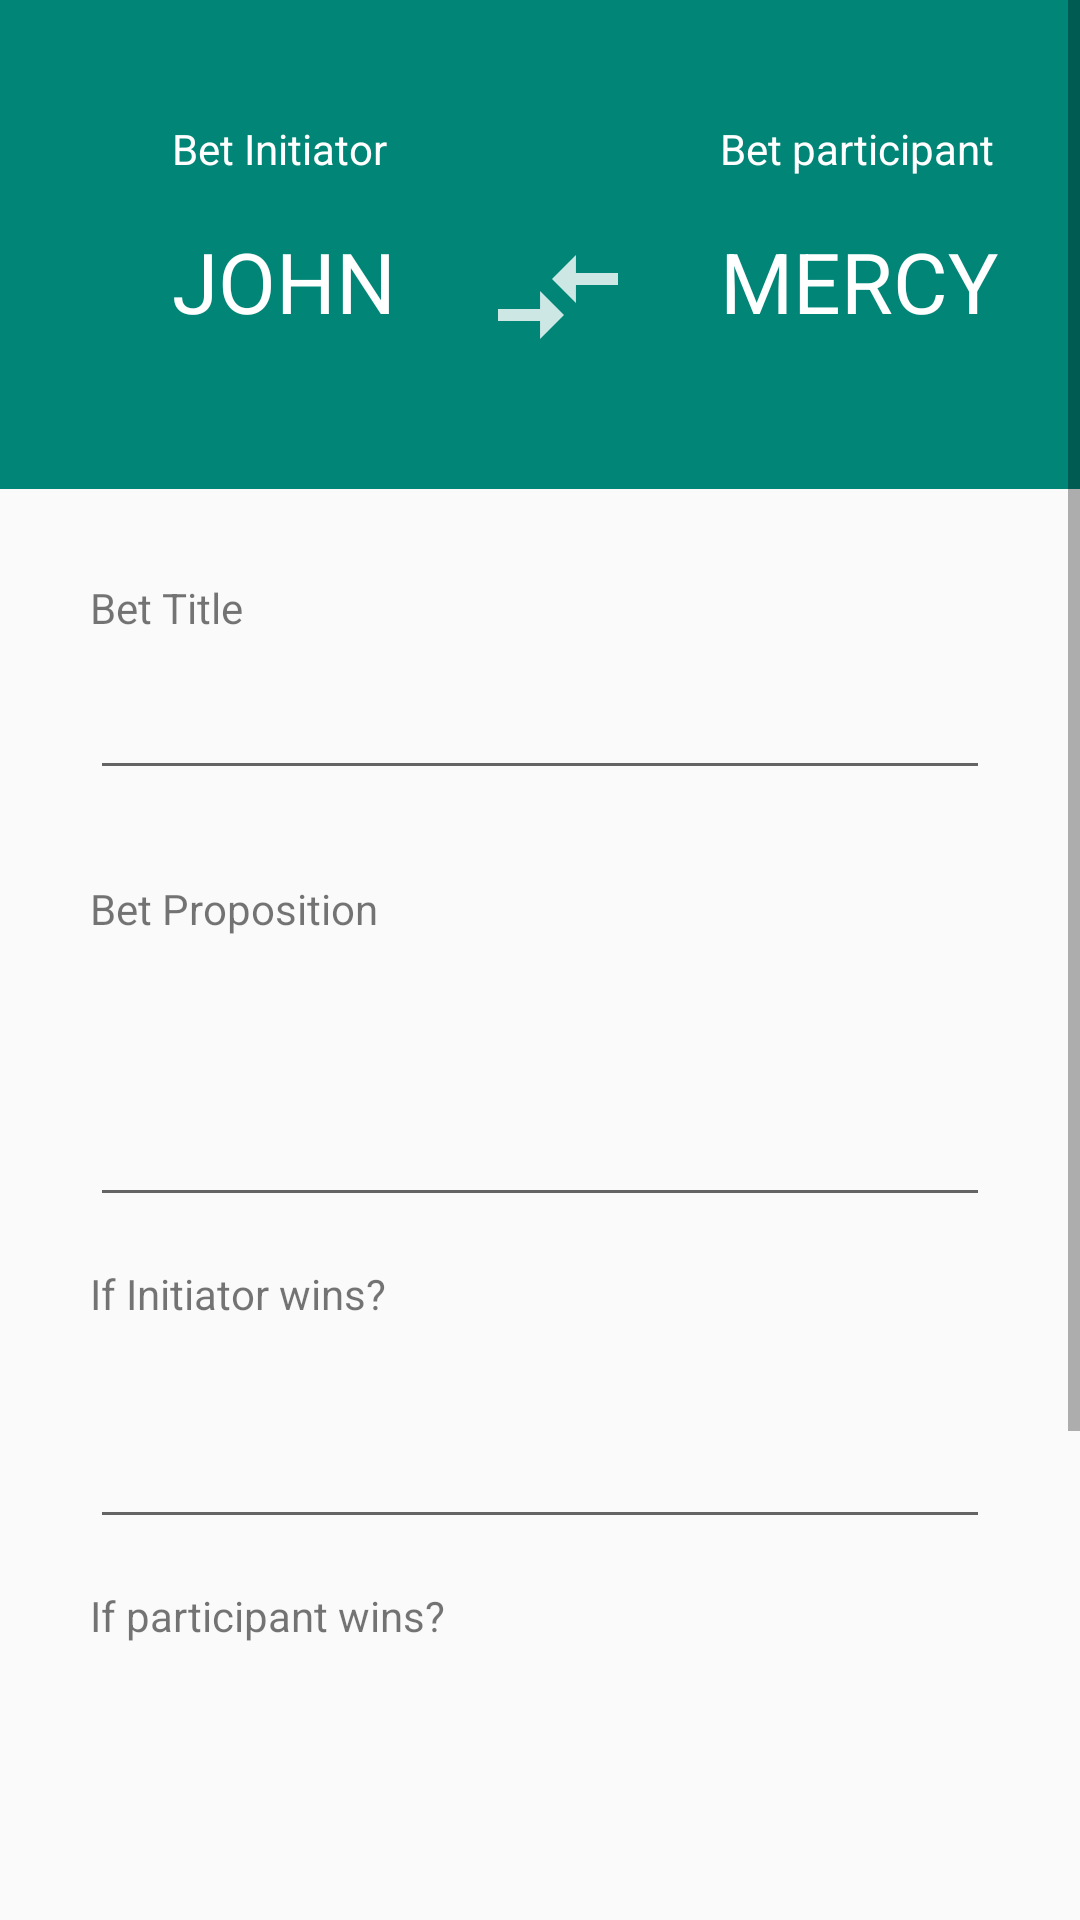

Point at icon controls on the screen. Image size 1080 x 1920, points as point (x, y).
bet switch: point (558, 297)
